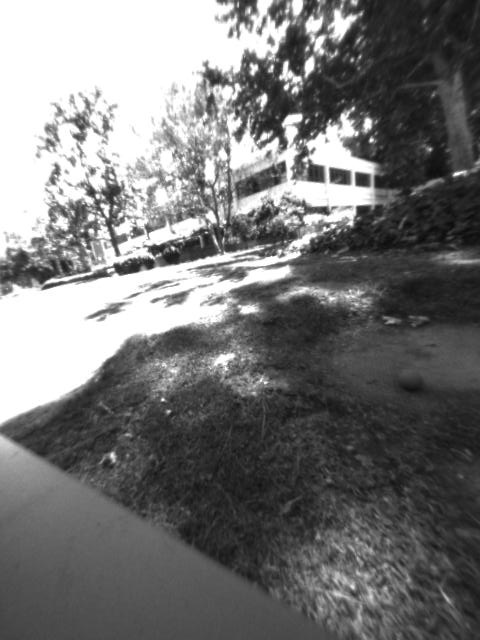dogtoy: (384, 358, 438, 398)
